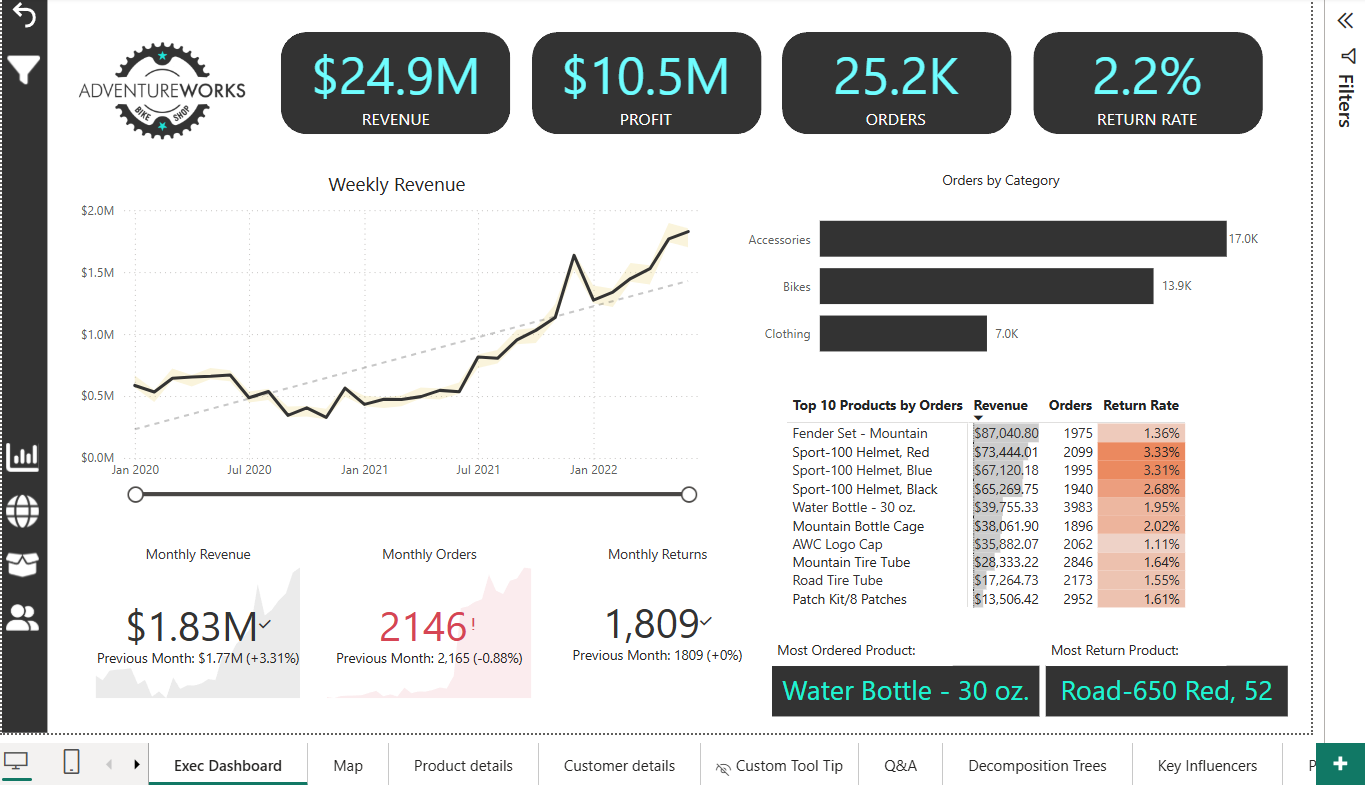

This screenshot's page, from the dashboard's own definition file:
{"tool":"powerbi","page":{"name":"Exec Dashboard","canvas":[1280,720],"ordinal":0},"visuals":[{"type":"image","title":"AW logo","box":[53.1,14.8,209,155],"z":0},{"type":"card","fields":{"Values":["Measure table.Total Revenue"]},"box":[296.3,29.6,179,111.1],"z":0,"group":"g2"},{"type":"group","id":"g1","title":"KPI backgrounds","box":[272.8,34.5,960.5,100],"z":0,"group":"g3"},{"type":"shape","box":[272.8,34.5,224.7,100],"z":0,"group":"g1"},{"type":"shape","title":"Left nav background","box":[0,0.2,44.4,719.8],"z":1000},{"type":"group","id":"g2","title":"KPI values","box":[296.3,29.6,913.6,111.1],"z":1000,"group":"g3"},{"type":"card","fields":{"Values":["Measure table.Total Profit"]},"box":[541.2,29.6,179,111.1],"z":1000,"group":"g2"},{"type":"shape","box":[763.3,34.5,224.7,100],"z":1000,"group":"g1"},{"type":"group","id":"g3","title":"KPI's","box":[272.8,29.6,960.5,111.1],"z":2000},{"type":"card","fields":{"Values":["Measure table.Total Orders"]},"box":[786,29.6,179,111.1],"z":2000,"group":"g2"},{"type":"shape","box":[1008.6,34.5,224.7,100],"z":2000,"group":"g1"},{"type":"card","fields":{"Values":["Measure table.Return Rate"]},"box":[1030.9,29.6,179,111.1],"z":3000,"group":"g2"},{"type":"shape","box":[518.1,34.5,224.7,100],"z":3000,"group":"g1"},{"type":"lineChart","title":"Weekly Revenue","fields":{"Y":["Measure.Total Revenue"],"Category":["Calender Lookup.Start of Month"]},"box":[71.6,170.4,628.4,327.2],"z":3000},{"type":"kpi","title":"Monthly Revenue","fields":{"Indicator":["Measure.Total Revenue"],"TrendLine":["Calender Lookup.Start of Month"],"Goal":["Measure.Previous Month Revenue"]},"box":[86.4,535.8,209.9,155.6],"z":4000},{"type":"kpi","title":"Monthly Orders","fields":{"TrendLine":["Calender Lookup.Start of Month"],"Indicator":["Measure.Total Orders"],"Goal":["Measure.Previous Month Orders"]},"box":[313.6,535.8,209.9,155.6],"z":5000},{"type":"kpi","title":"Monthly Returns","fields":{"Goal":["Measure.Previous Month Returns"],"Indicator":["Measure.Total Returns"],"TrendLine":["Calender Lookup.Start of Month"]},"box":[540.7,535.8,201.2,149.4],"z":6000},{"type":"clusteredBarChart","title":"Orders by Category","fields":{"Category":["Product Categories Lookup.CategoryName"],"Y":["Measure.Total Orders"]},"box":[719.8,170.4,513.6,202.5],"z":7000},{"type":"pivotTable","fields":{"Values":["Measure.Total Revenue","Measure.Total Orders","Measure.Return Rate"],"Rows":["Product Lookup.ProductName"]},"box":[763,385.2,409.9,225.9],"z":8000},{"type":"card","fields":{"Values":["Min(Product Lookup.ProductName)"]},"box":[753.1,654.3,261.7,49.4],"z":9000},{"type":"textbox","box":[753.1,624.7,176.5,29.6],"z":10000},{"type":"card","fields":{"Values":["Min(Product Lookup.ProductName)"]},"box":[1021,654.3,237,49.4],"z":11000},{"type":"textbox","box":[1021,624.7,176.5,29.6],"z":12000},{"type":"actionButton","box":[0,0,44.9,34.8],"z":13000},{"type":"actionButton","box":[0,430,45,40],"z":14000},{"type":"actionButton","box":[0,482.5,45,40],"z":15000},{"type":"actionButton","box":[0,535,45,40],"z":16000},{"type":"actionButton","box":[0,587.5,45,40],"z":17000},{"type":"actionButton","box":[1.4,51.9,44.7,40.4],"z":19000}]}

Visuals, with their boxes on the page's 1280x720 design canvas (x1, y1, x2, y2). These are canvas units, not pixel positions in the 1365x785 screenshot, which may show the page scaled, cropped or inside an application window:
"AW logo" image: (left=53, top=15, right=262, bottom=170)
card - Measure table.Total Revenue: (left=296, top=30, right=475, bottom=141)
"KPI backgrounds" group: (left=273, top=34, right=1233, bottom=134)
shape: (left=273, top=34, right=498, bottom=134)
"Left nav background" shape: (left=0, top=0, right=44, bottom=720)
"KPI values" group: (left=296, top=30, right=1210, bottom=141)
card - Measure table.Total Profit: (left=541, top=30, right=720, bottom=141)
shape: (left=763, top=34, right=988, bottom=134)
"KPI's" group: (left=273, top=30, right=1233, bottom=141)
card - Measure table.Total Orders: (left=786, top=30, right=965, bottom=141)
shape: (left=1009, top=34, right=1233, bottom=134)
card - Measure table.Return Rate: (left=1031, top=30, right=1210, bottom=141)
shape: (left=518, top=34, right=743, bottom=134)
"Weekly Revenue" lineChart: (left=72, top=170, right=700, bottom=498)
"Monthly Revenue" kpi: (left=86, top=536, right=296, bottom=691)
"Monthly Orders" kpi: (left=314, top=536, right=524, bottom=691)
"Monthly Returns" kpi: (left=541, top=536, right=742, bottom=685)
"Orders by Category" clusteredBarChart: (left=720, top=170, right=1233, bottom=373)
pivotTable - Measure.Total Revenue x Measure.Total Orders: (left=763, top=385, right=1173, bottom=611)
card - Min(Product Lookup.ProductName): (left=753, top=654, right=1015, bottom=704)
textbox: (left=753, top=625, right=930, bottom=654)
card - Min(Product Lookup.ProductName): (left=1021, top=654, right=1258, bottom=704)
textbox: (left=1021, top=625, right=1198, bottom=654)
actionButton: (left=0, top=0, right=45, bottom=35)
actionButton: (left=0, top=430, right=45, bottom=470)
actionButton: (left=0, top=482, right=45, bottom=522)
actionButton: (left=0, top=535, right=45, bottom=575)
actionButton: (left=0, top=588, right=45, bottom=628)
actionButton: (left=1, top=52, right=46, bottom=92)
